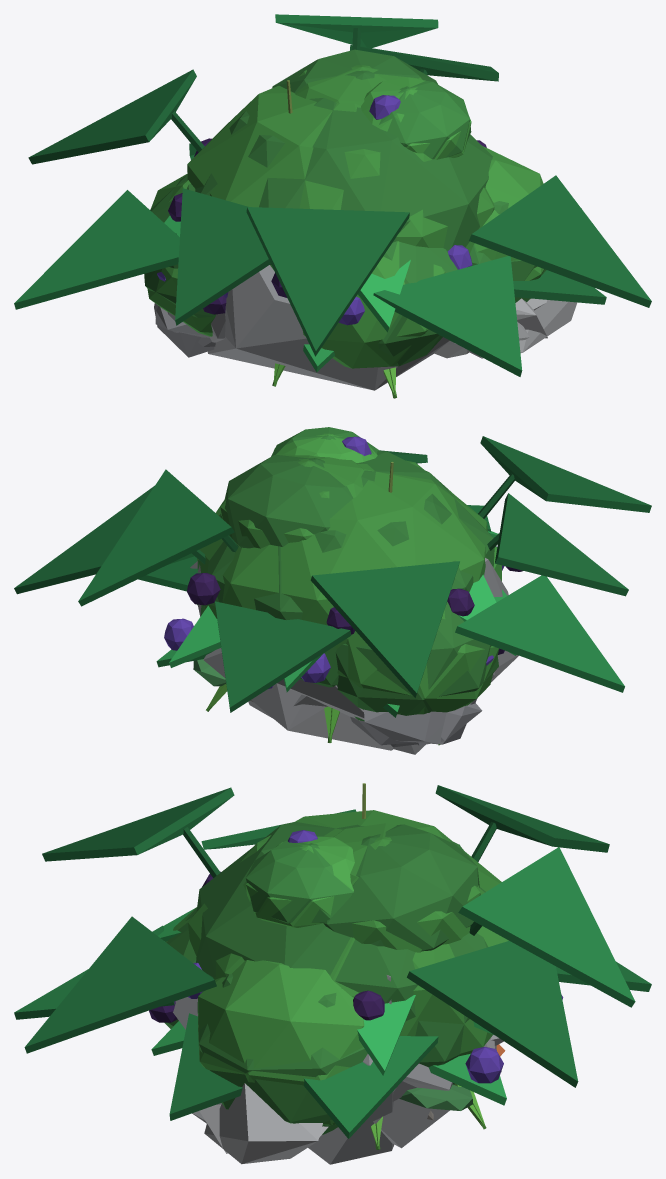
File: plants.glb
3 views of the same model, one above another, from view 1: azimuth 30°, elevation 25°; view 2: azimuth 150°, elevation 25°; view 3: azimuth 270°, elevation 25° (orthographic). The views are drawn at different scales.
Parts seen in each view (by area): view 1: bush_jungle_leaves, bush_forest_edge_leaves, bush_grassland_leaves, rock_3_main, bush_tropical_leaves, bush_grassland_berries, rock_mossy_main, bush_forest_edge_berries, rock_1_main, rock_iron_main; view 2: bush_jungle_leaves, bush_grassland_leaves, bush_forest_edge_leaves, rock_iron_main, rock_3_main, bush_tropical_leaves, bush_forest_edge_berries, rock_mossy_main, bush_grassland_berries, rock_1_main, fern_main, bush_nordic_leaves; view 3: bush_jungle_leaves, bush_forest_edge_leaves, bush_grassland_leaves, rock_3_main, bush_tropical_leaves, rock_2_main, bush_grassland_berries, bush_nordic_leaves, bush_forest_edge_berries, rock_1_main, rock_mossy_main.
Part boxes in pixels (box(x1,y1,x2,y2)): bush_jungle_leaves: box(14, 14, 651, 376); bush_forest_edge_leaves: box(144, 49, 546, 367); bush_grassland_leaves: box(147, 65, 544, 368); rock_3_main: box(154, 265, 577, 390); bush_tropical_leaves: box(164, 215, 410, 372); bush_grassland_berries: box(157, 95, 472, 325); rock_mossy_main: box(209, 298, 547, 342); bush_forest_edge_berries: box(168, 138, 486, 314); rock_1_main: box(155, 306, 529, 343); rock_iron_main: box(172, 298, 547, 358); bush_jungle_leaves: box(14, 436, 651, 712); bush_grassland_leaves: box(197, 433, 501, 714); bush_forest_edge_leaves: box(197, 427, 498, 721); rock_iron_main: box(203, 648, 416, 750); rock_3_main: box(197, 558, 518, 754); bush_tropical_leaves: box(156, 531, 516, 717); bush_forest_edge_berries: box(187, 566, 523, 654); rock_mossy_main: box(276, 671, 494, 745); bush_grassland_berries: box(164, 436, 504, 688); rock_1_main: box(190, 561, 482, 745); fern_main: box(206, 684, 440, 745); bush_nordic_leaves: box(193, 659, 226, 686); bush_jungle_leaves: box(14, 785, 651, 1138); bush_forest_edge_leaves: box(164, 812, 487, 1134); bush_grassland_leaves: box(166, 810, 508, 1125); rock_3_main: box(173, 975, 394, 1164); bush_tropical_leaves: box(151, 908, 506, 1105); rock_2_main: box(373, 1099, 449, 1148); bush_grassland_berries: box(188, 830, 563, 1083); bush_nordic_leaves: box(399, 1083, 472, 1110); bush_forest_edge_berries: box(149, 871, 384, 1022); rock_1_main: box(192, 1054, 452, 1123); rock_mossy_main: box(199, 1035, 503, 1153).
Size of the model in its own units: 1.56 by 0.7868 by 1.45.
